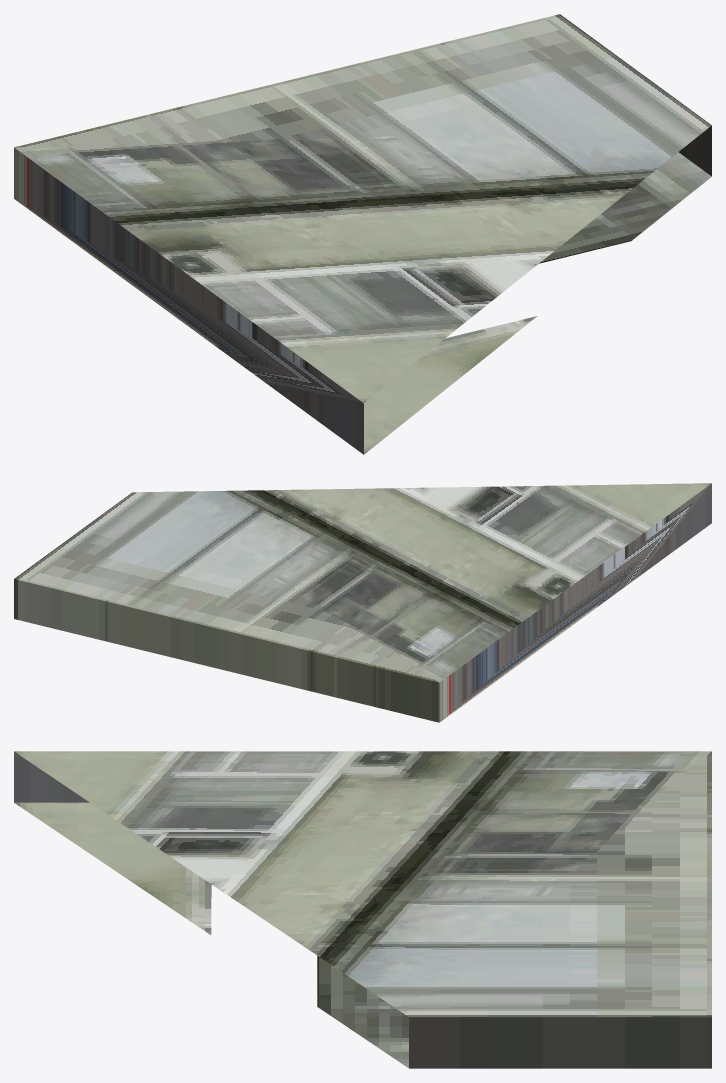
File: 069_lowriseWall_cell_001.gltf
The picture shows the model from 3 angles, top to bottom: view 1: azimuth 30°, elevation 25°; view 2: azimuth 150°, elevation 25°; view 3: azimuth 270°, elevation 25°; orthographic projection. The views are drawn at different scales.
Parts seen in each view (by area): view 1: lowriseWall_cell_001; view 2: lowriseWall_cell_001; view 3: lowriseWall_cell_001.
Part boxes in pixels (x1,y1,x2,y2): lowriseWall_cell_001: [14, 14, 711, 454]; lowriseWall_cell_001: [14, 483, 711, 722]; lowriseWall_cell_001: [14, 751, 711, 1068].
Size of the model in its own units: 4.09 by 0.3682 by 4.54.
Materials: 1 (1 with a texture image).
